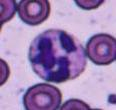N: (28, 27, 86, 82)
